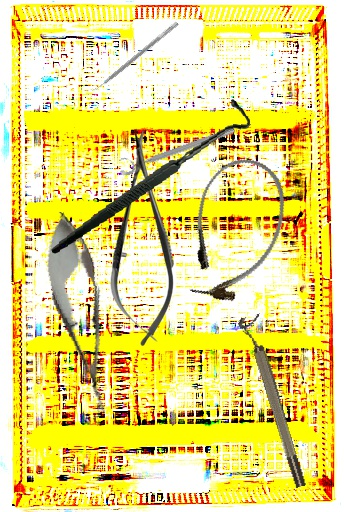Cannula: (170, 147, 300, 313)
Fixation Ring: (236, 313, 310, 491), (115, 117, 237, 178)
Hook Surgical: (35, 96, 264, 255)
Micro Scissor: (33, 206, 129, 422), (110, 129, 175, 347)
Spatula Surgical: (88, 17, 180, 96)
